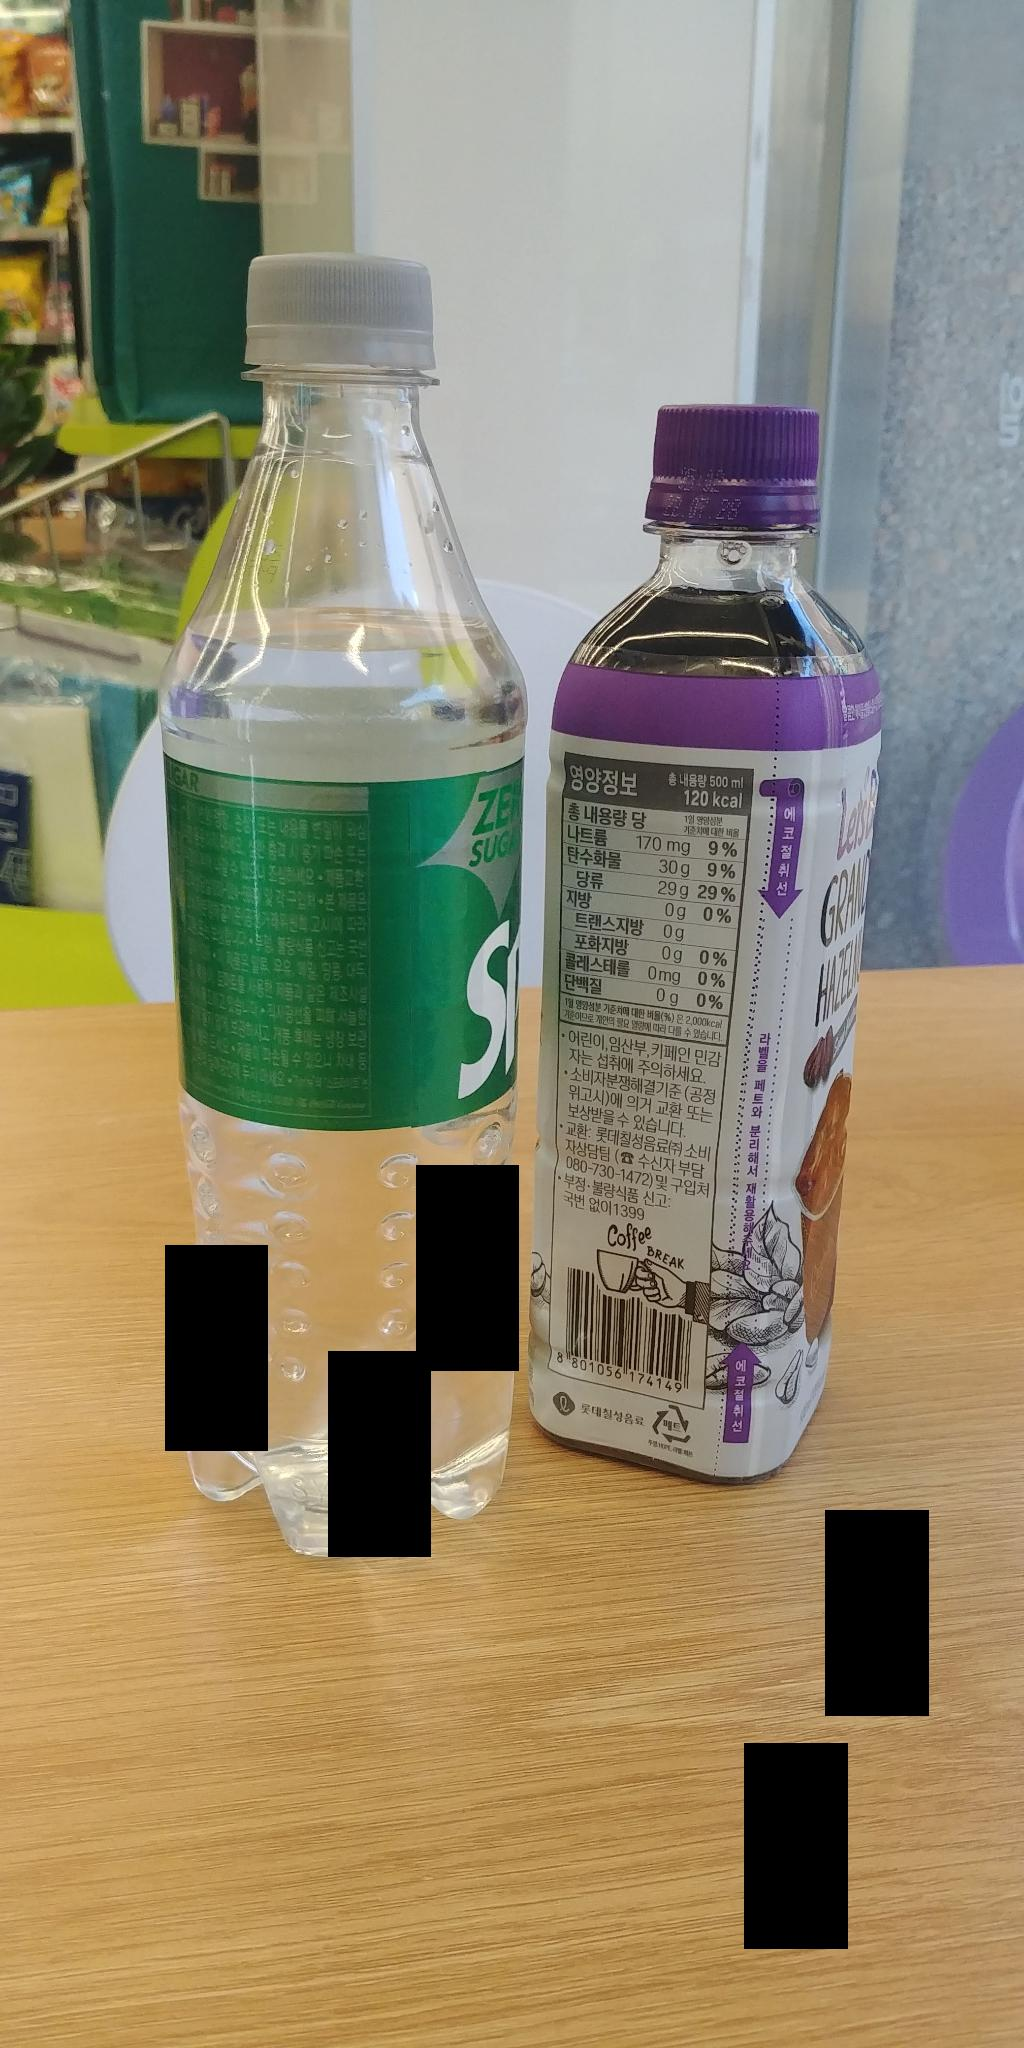letsbe_grande_hazelnut: (529, 364, 899, 1502)
sprite_zero: (149, 256, 530, 1558)
